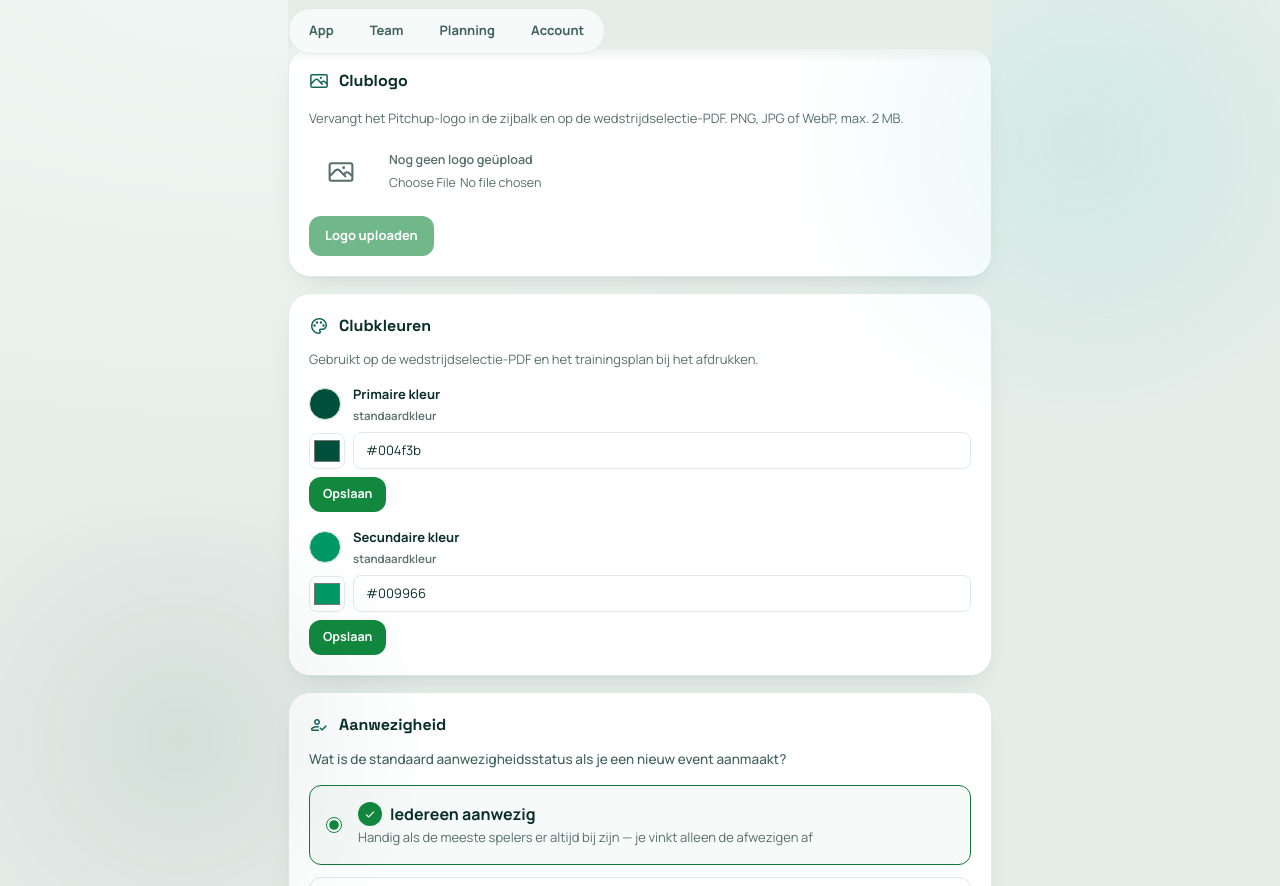
Test: AC5 — beide kleuren invullen en opslaan → beide opgeslagen, ook ná herlaad › direct na opslaan van beide: beide bevestigd
(page scrolled)
Replace the text in the field named "Primaire kleur — Hexadecimale kleurcode" with "#a1b2c3" at (662,451), box top-left (353, 432), bottom-right (971, 469)
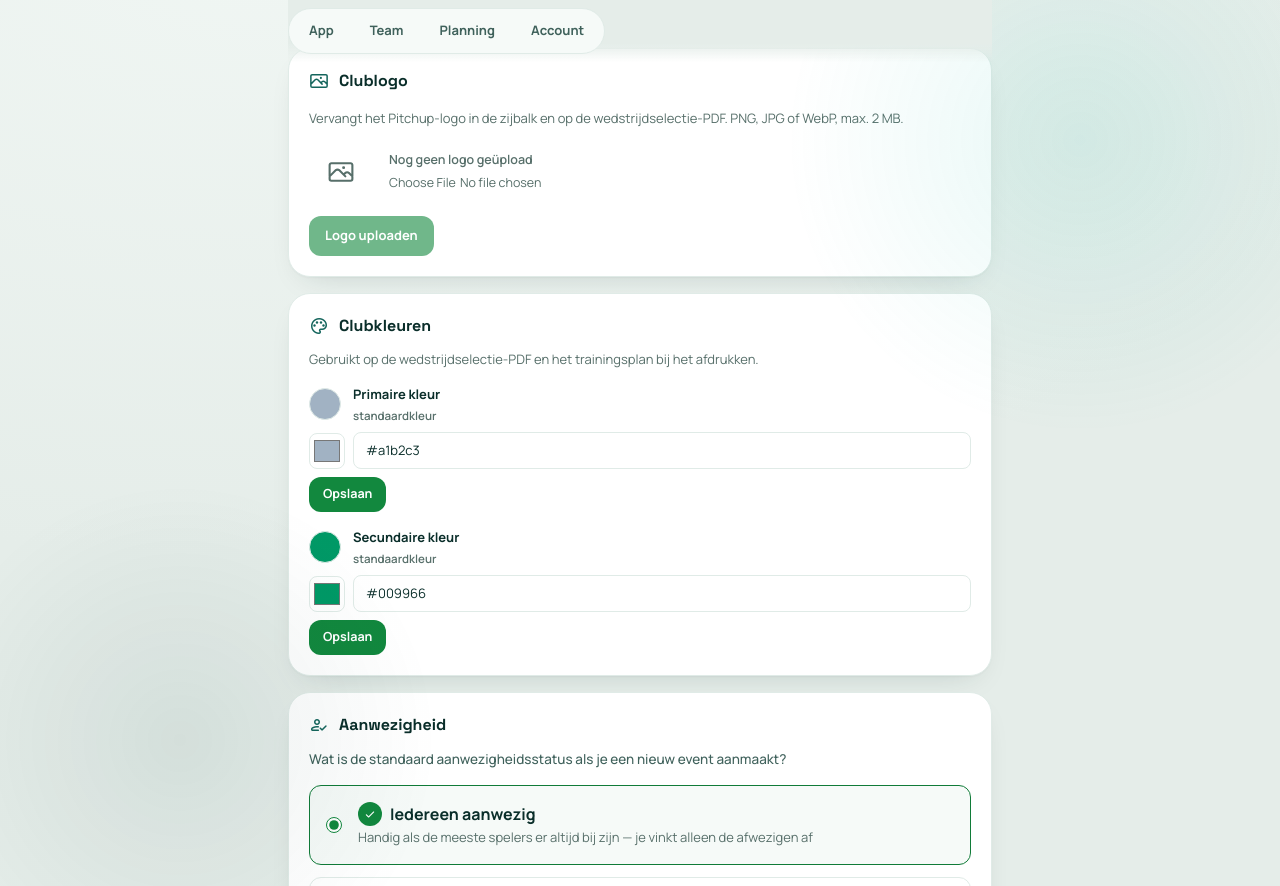
Click the button "Opslaan" below "Primaire kleur" at (348,495), box top-left (309, 477), bottom-right (386, 512)
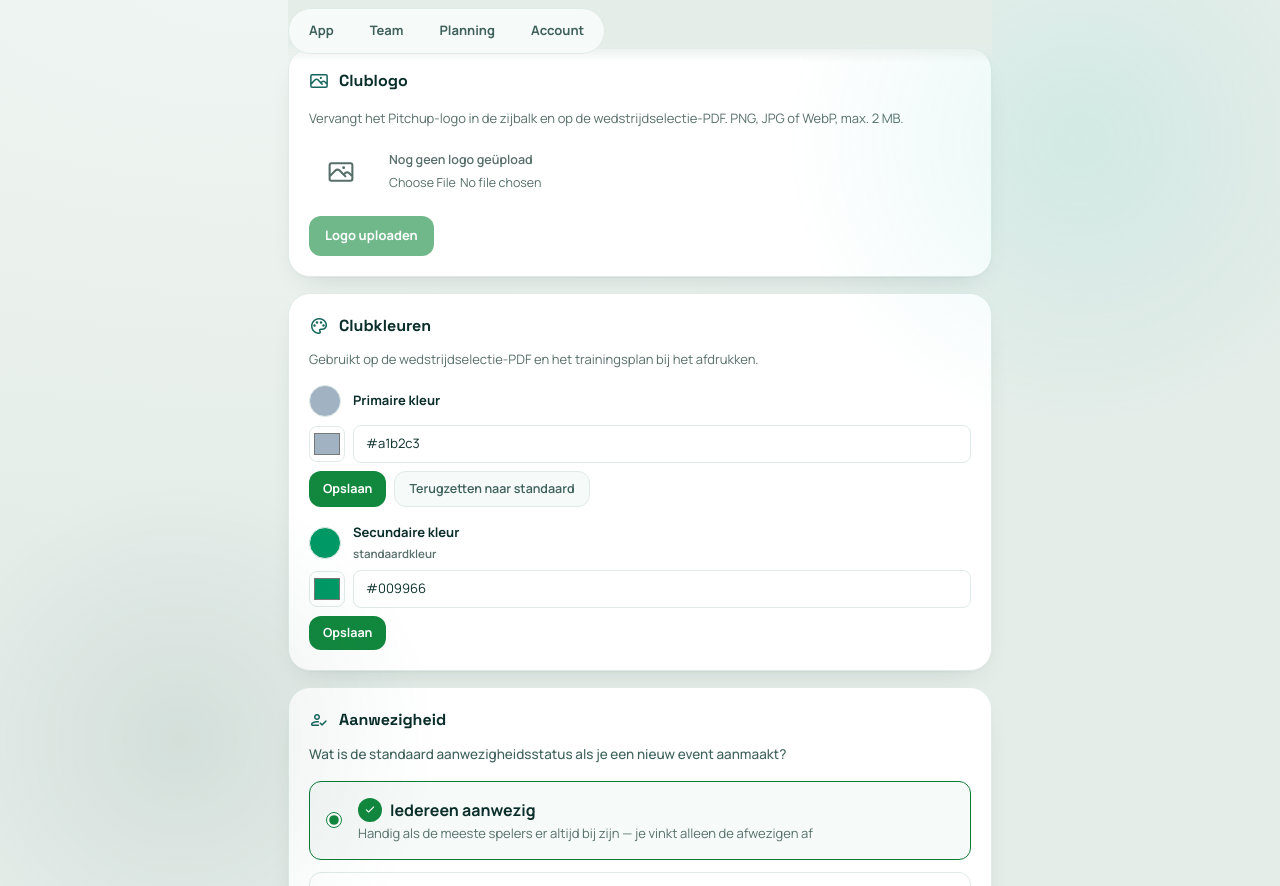
Replace the text in the field named "Secundaire kleur — Hexadecimale kleurcode" with "#4d4dff" at (662,589), box top-left (353, 570), bottom-right (971, 608)
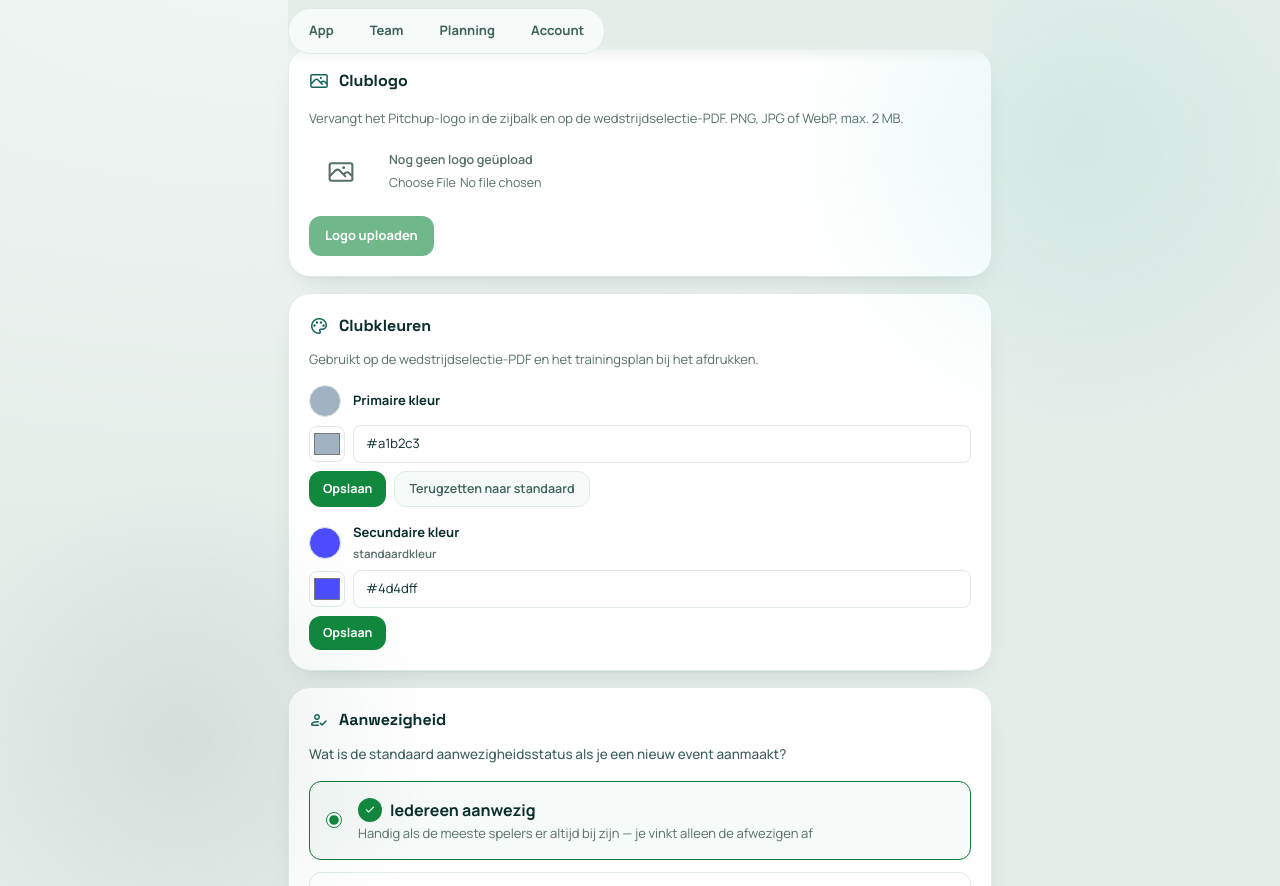
Click the button "Opslaan" below "standaardkleur" at (348,633), box top-left (309, 616), bottom-right (386, 650)
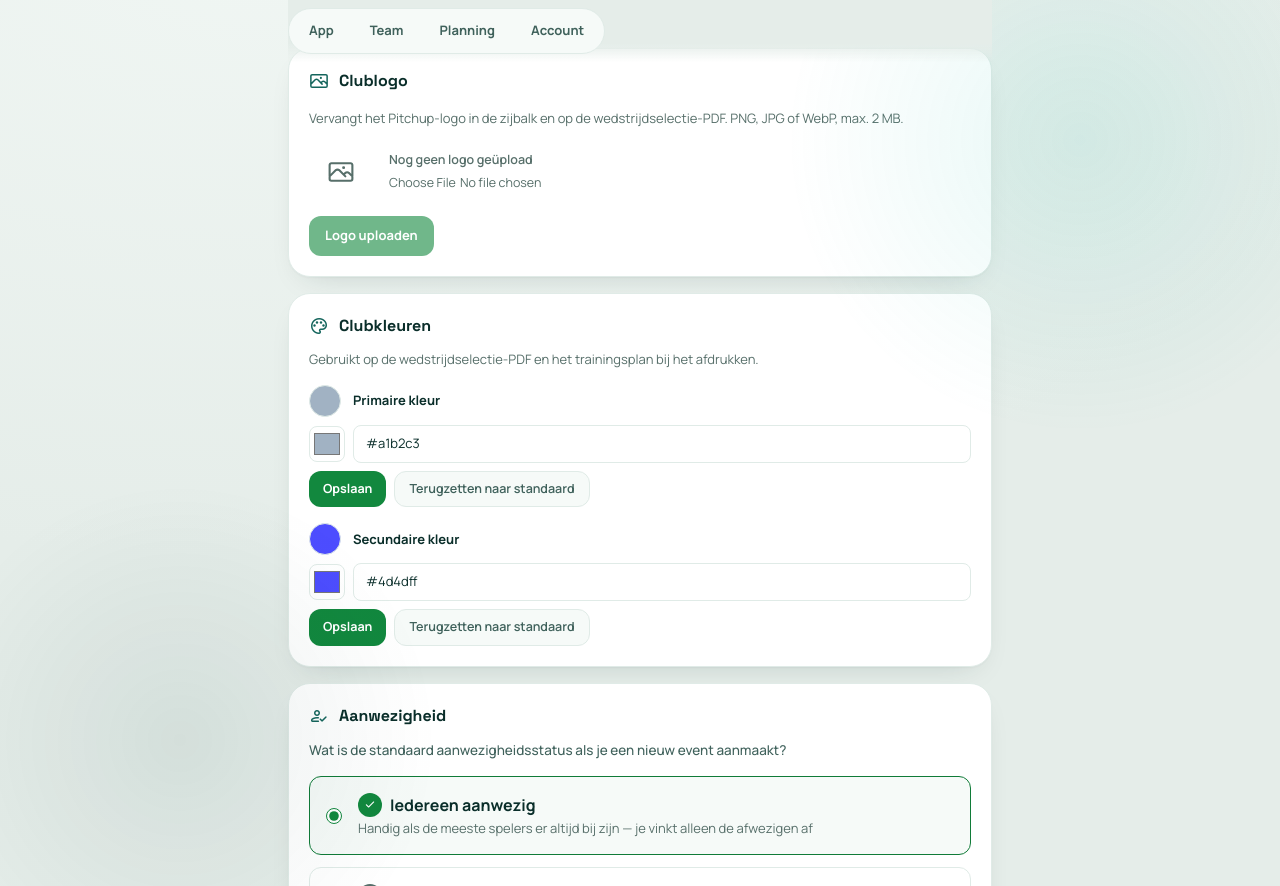
Expected: the number of buttons "Terugzetten naar standaard" is 2, top-left (394, 470), bottom-right (590, 507); top-left (394, 609), bottom-right (590, 646)
